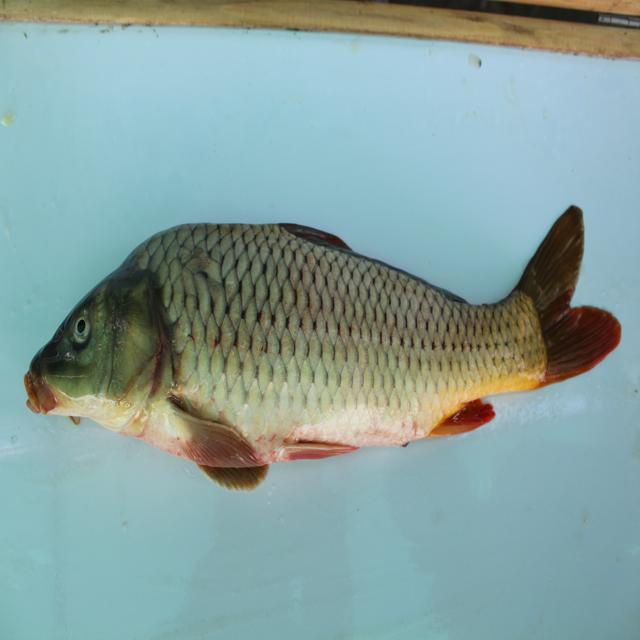CommonCarp: (18, 198, 619, 509)
